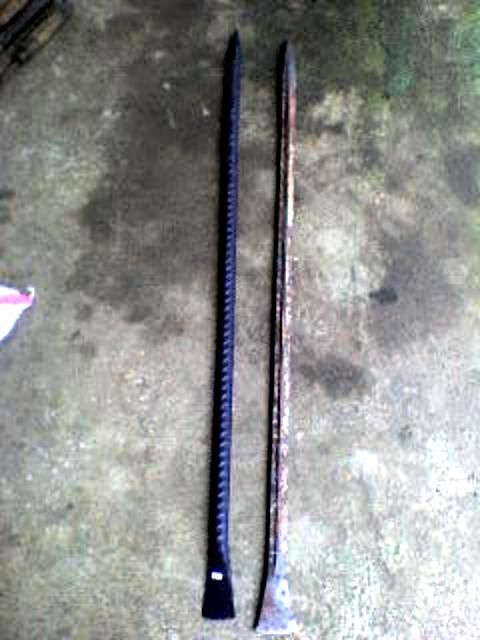crow bar: (250, 30, 306, 640), (192, 21, 232, 620)
